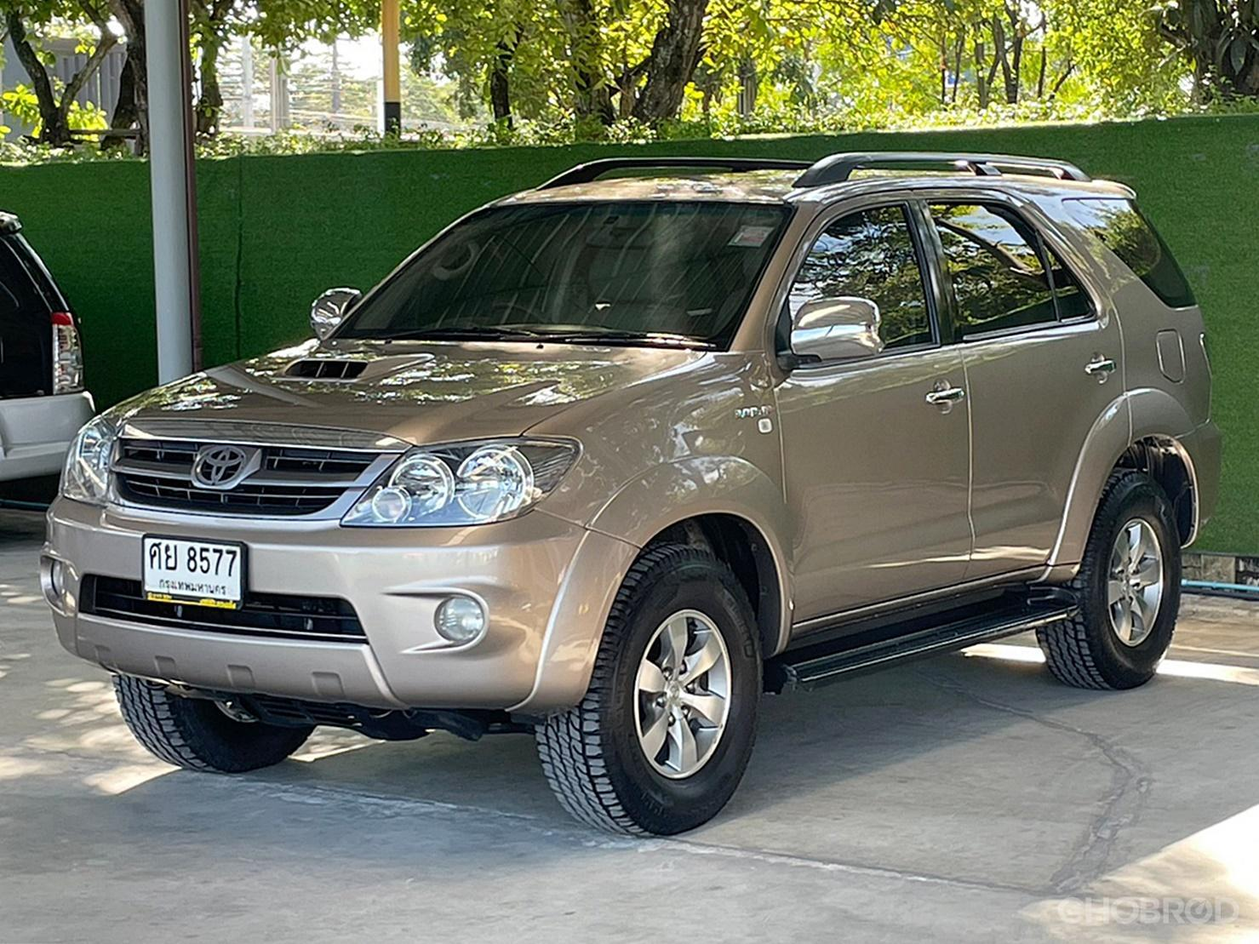license-plate: (128, 522, 256, 626)
